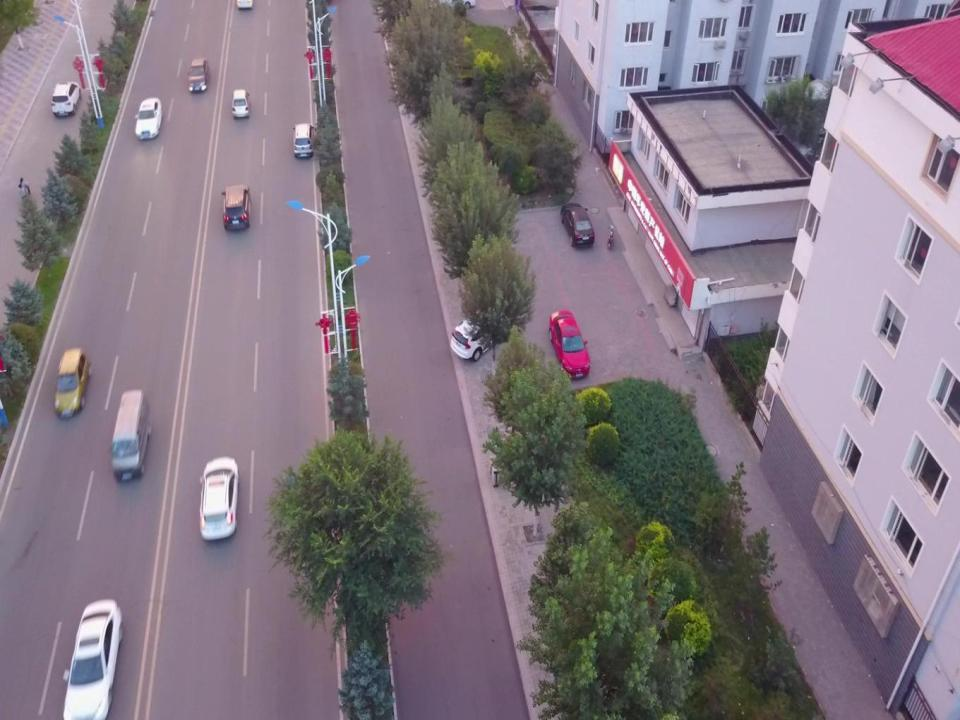car: (59, 598, 122, 720), (448, 304, 511, 361), (198, 456, 238, 543), (547, 310, 592, 380), (51, 345, 90, 419), (559, 202, 595, 246), (222, 182, 250, 230), (134, 96, 162, 141), (51, 79, 82, 117), (292, 122, 314, 158), (188, 56, 209, 92), (231, 88, 250, 118)
van: (111, 388, 150, 481)
